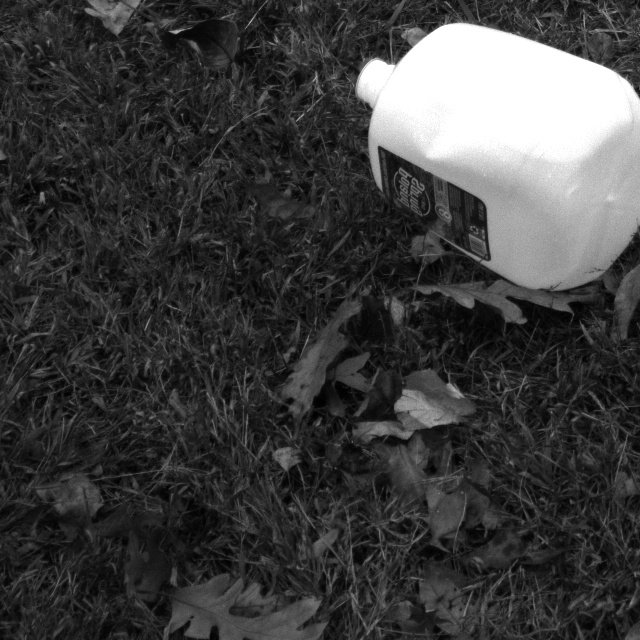can: (347, 19, 640, 312)
